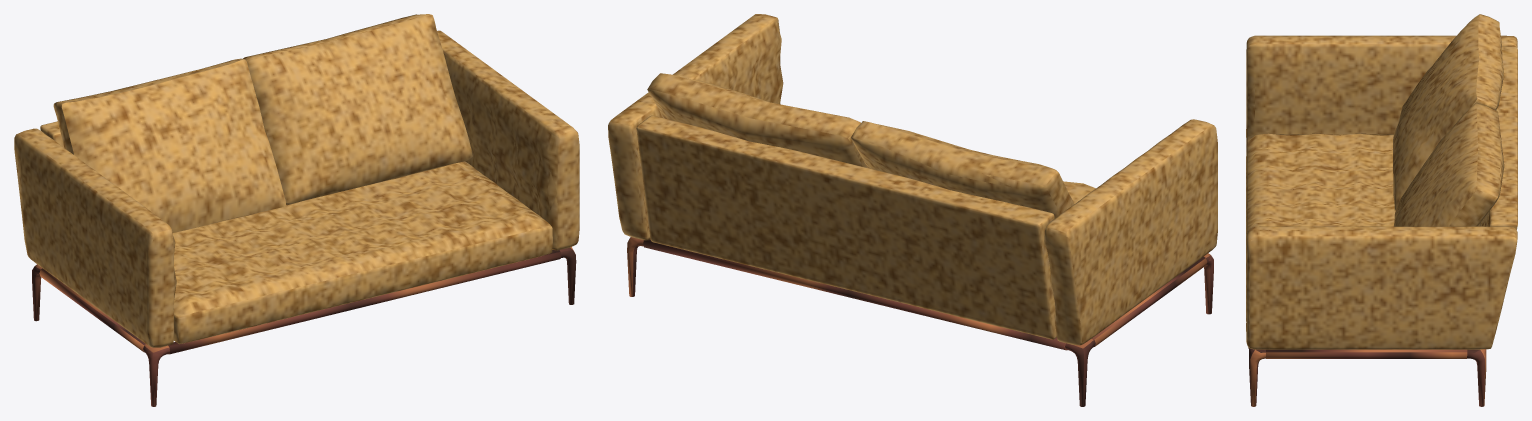
File: Sofa2.fbx
3 views of the same model, side by side, from view 1: azimuth 30°, elevation 25°; view 2: azimuth 150°, elevation 25°; view 3: azimuth 270°, elevation 25° (orthographic). The views are drawn at different scales.
Parts seen in each view (by area): view 1: Settee 001_2, Settee 001_10, Settee 001_8, Settee 001_11, Settee 001_12, Settee 001_5, Settee 001, Settee 001_9, Settee 001_6; view 2: Settee 001_4, Settee 001_11, Settee 001_12, Settee 001_10, Settee 001_9, Settee 001_3, Settee 001, Settee 001_6, Settee 001_8; view 3: Settee 001_12, Settee 001_11, Settee 001_2, Settee 001_10, Settee 001_8, Settee 001_4, Settee 001_9, Settee 001_7, Settee 001.
Boxes of the visible parts, x1=… form: Settee 001_2: x1=172, y1=161, x2=552, y2=343; Settee 001_10: x1=243, y1=14, x2=472, y2=205; Settee 001_8: x1=61, y1=59, x2=285, y2=232; Settee 001_11: x1=14, y1=128, x2=176, y2=347; Settee 001_12: x1=437, y1=30, x2=579, y2=250; Settee 001_5: x1=168, y1=250, x2=561, y2=354; Settee 001: x1=32, y1=247, x2=576, y2=406; Settee 001_9: x1=53, y1=58, x2=281, y2=233; Settee 001_6: x1=39, y1=268, x2=145, y2=352; Settee 001_4: x1=636, y1=115, x2=1056, y2=339; Settee 001_11: x1=1044, y1=119, x2=1217, y2=345; Settee 001_12: x1=608, y1=14, x2=783, y2=240; Settee 001_10: x1=647, y1=73, x2=867, y2=167; Settee 001_9: x1=851, y1=121, x2=1073, y2=218; Settee 001_3: x1=643, y1=239, x2=1067, y2=350; Settee 001: x1=627, y1=237, x2=1213, y2=406; Settee 001_6: x1=1092, y1=256, x2=1207, y2=347; Settee 001_8: x1=871, y1=122, x2=1074, y2=204; Settee 001_12: x1=1246, y1=226, x2=1517, y2=349; Settee 001_11: x1=1246, y1=35, x2=1517, y2=143; Settee 001_2: x1=1246, y1=133, x2=1395, y2=321; Settee 001_10: x1=1393, y1=102, x2=1504, y2=226; Settee 001_8: x1=1393, y1=14, x2=1479, y2=210; Settee 001_4: x1=1478, y1=46, x2=1517, y2=229; Settee 001_9: x1=1395, y1=14, x2=1503, y2=210; Settee 001_7: x1=1266, y1=349, x2=1467, y2=358; Settee 001: x1=1249, y1=348, x2=1486, y2=406.
Bounding box in the file's own units: 169 × 79.67 × 94.98.
